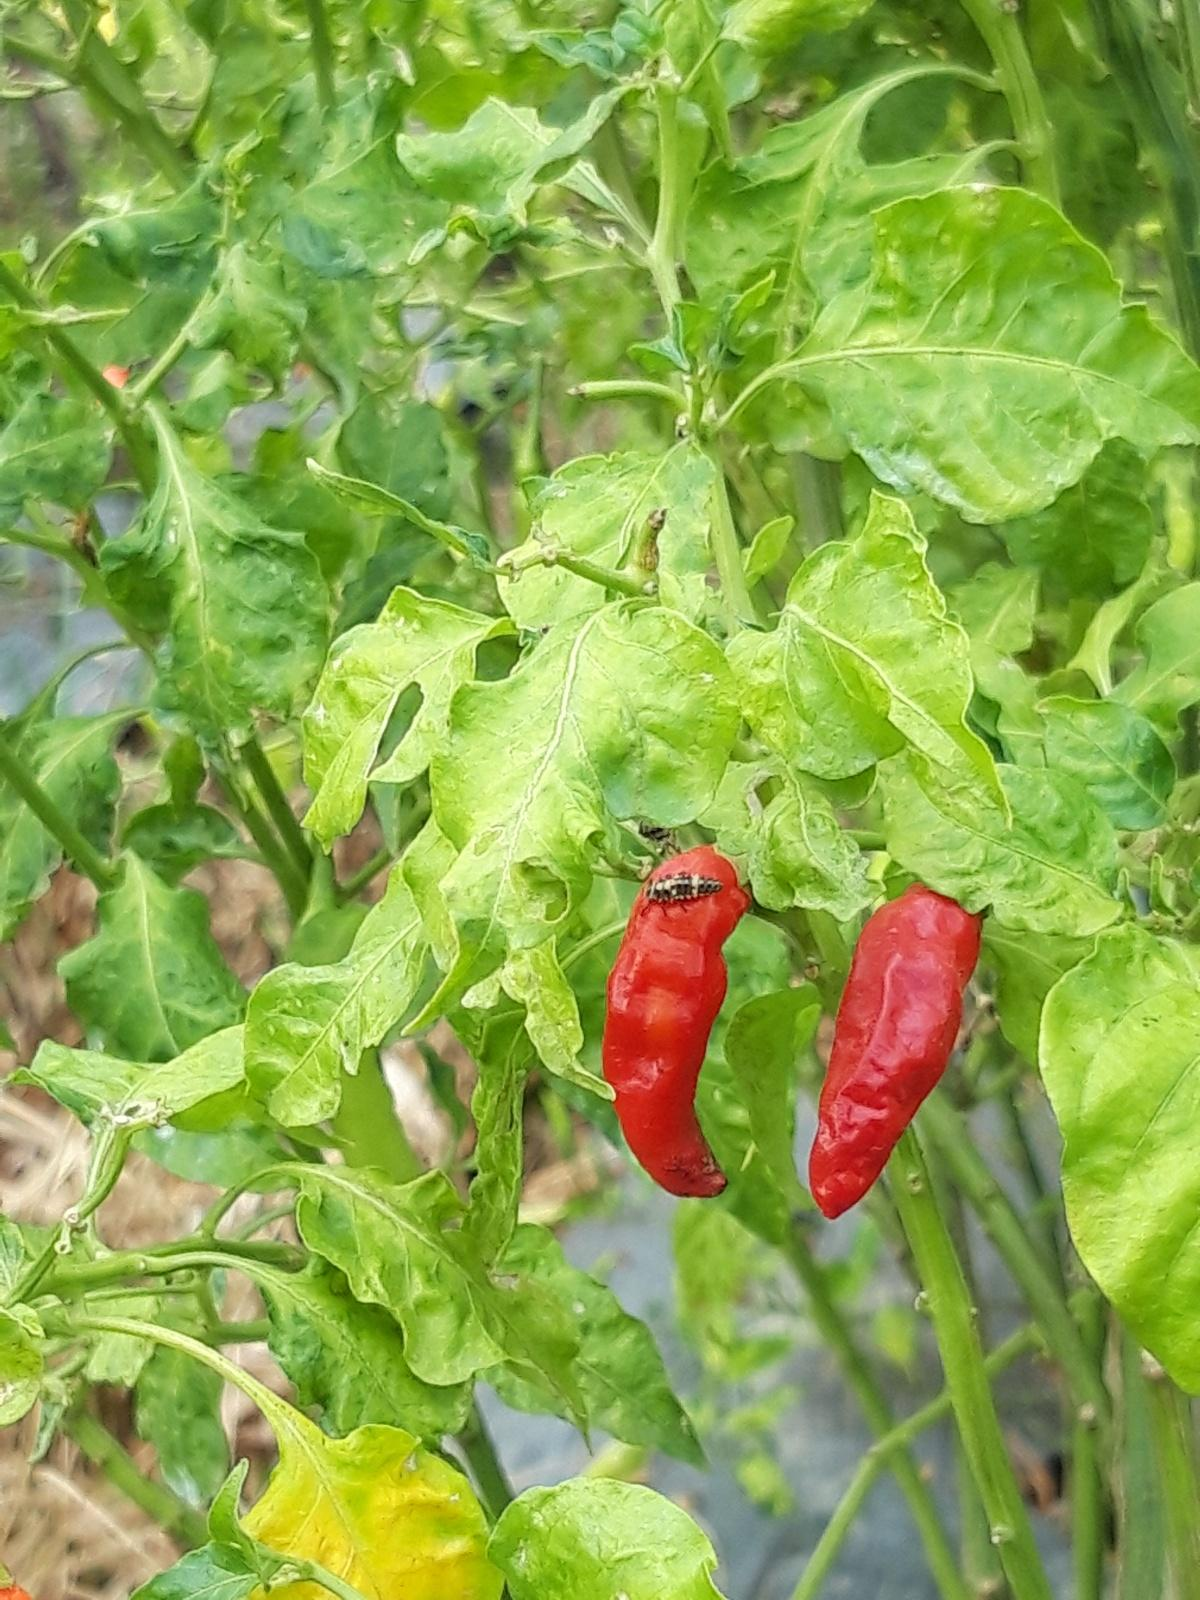cabai_normal: (808, 889, 989, 1222), (597, 843, 754, 1201)
